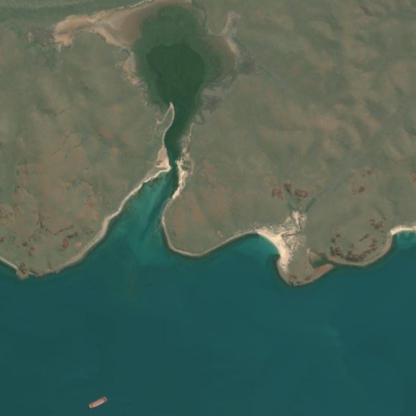ship: (95, 395, 98, 409)
